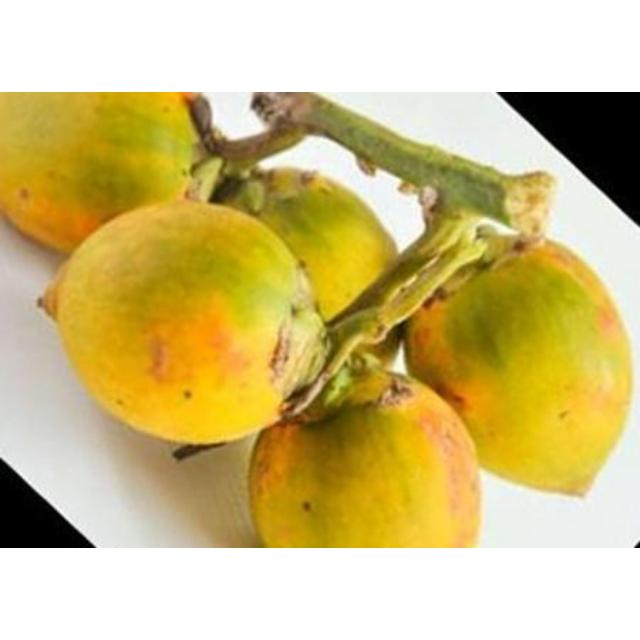good: (37, 200, 336, 460), (404, 238, 634, 499), (245, 384, 484, 547), (0, 92, 205, 258), (236, 170, 400, 321)
